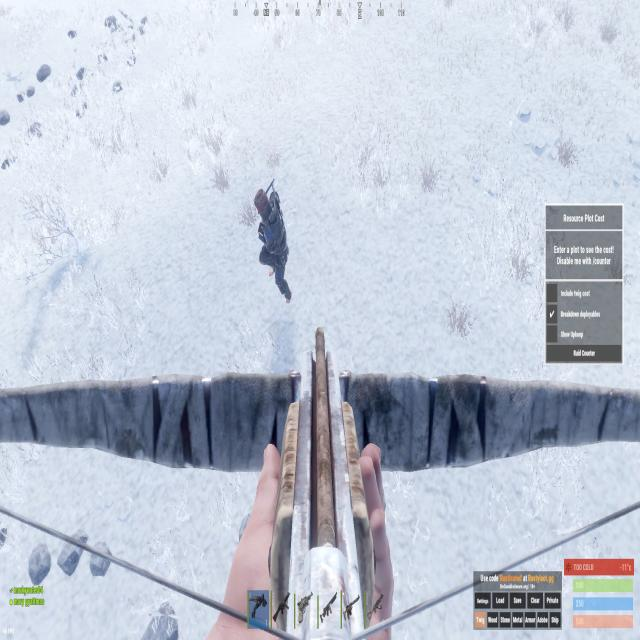Player: (252, 183, 294, 307)
